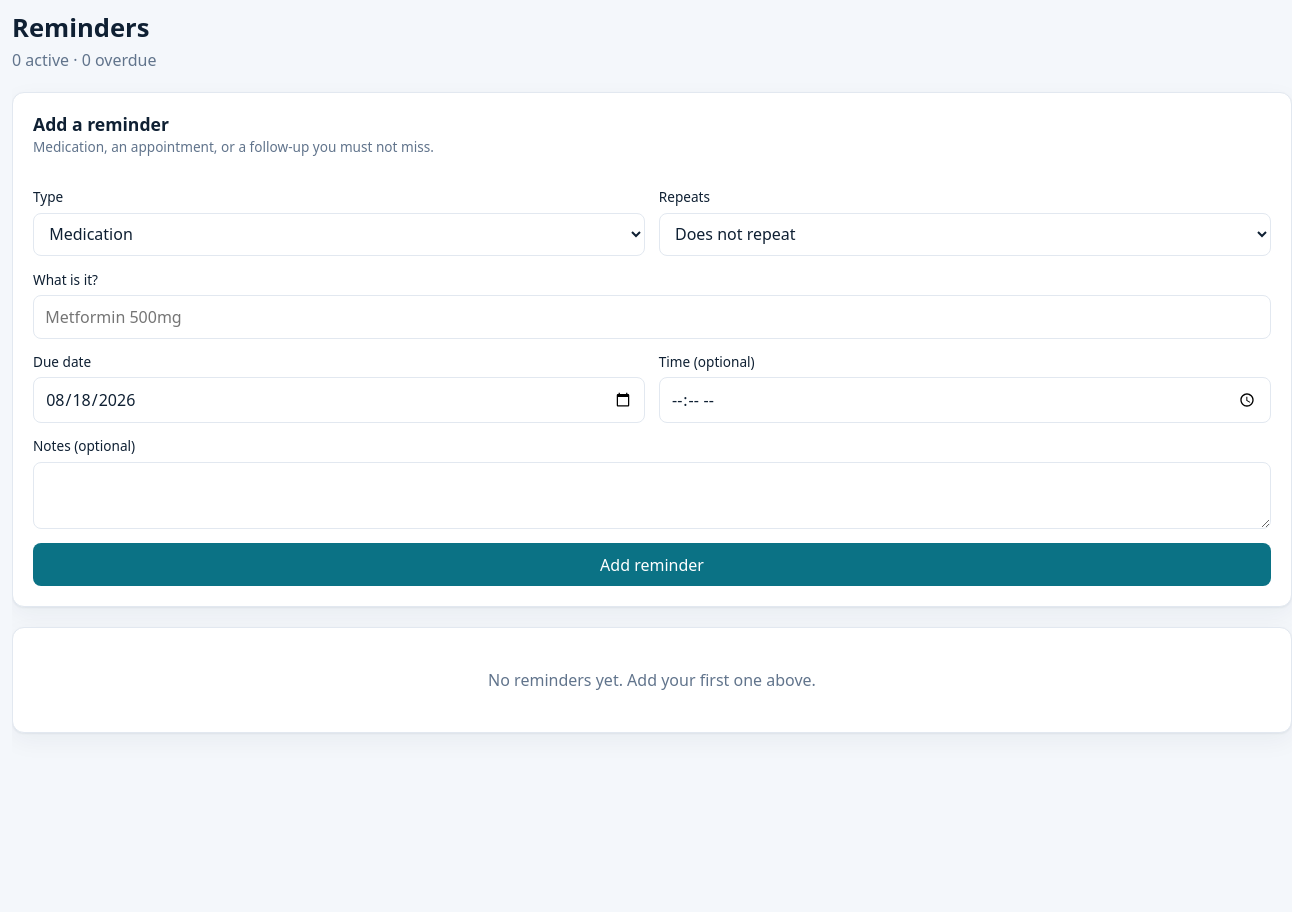
Scenario: RemindersPage › creates a reminder and reloads the board
expect the text "No reminders yet. Add your first one above." is shown: met, box [488, 669, 816, 691]
Type "Vitamin D sachet" into the field labelled "What is it?" at point(652, 317), box [33, 295, 1271, 338]
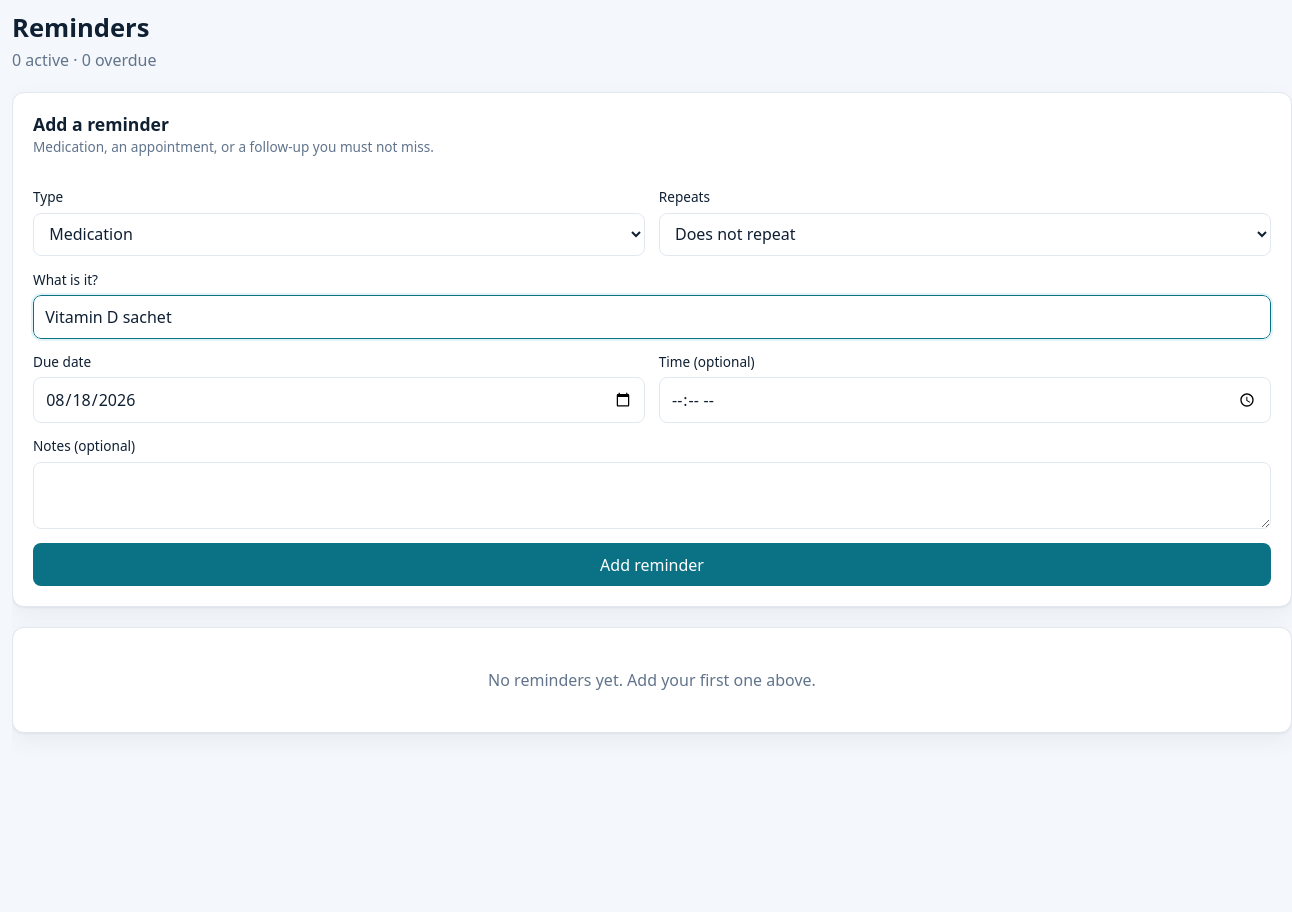
Click the button "Add reminder" at point(652, 565), box [33, 543, 1271, 586]
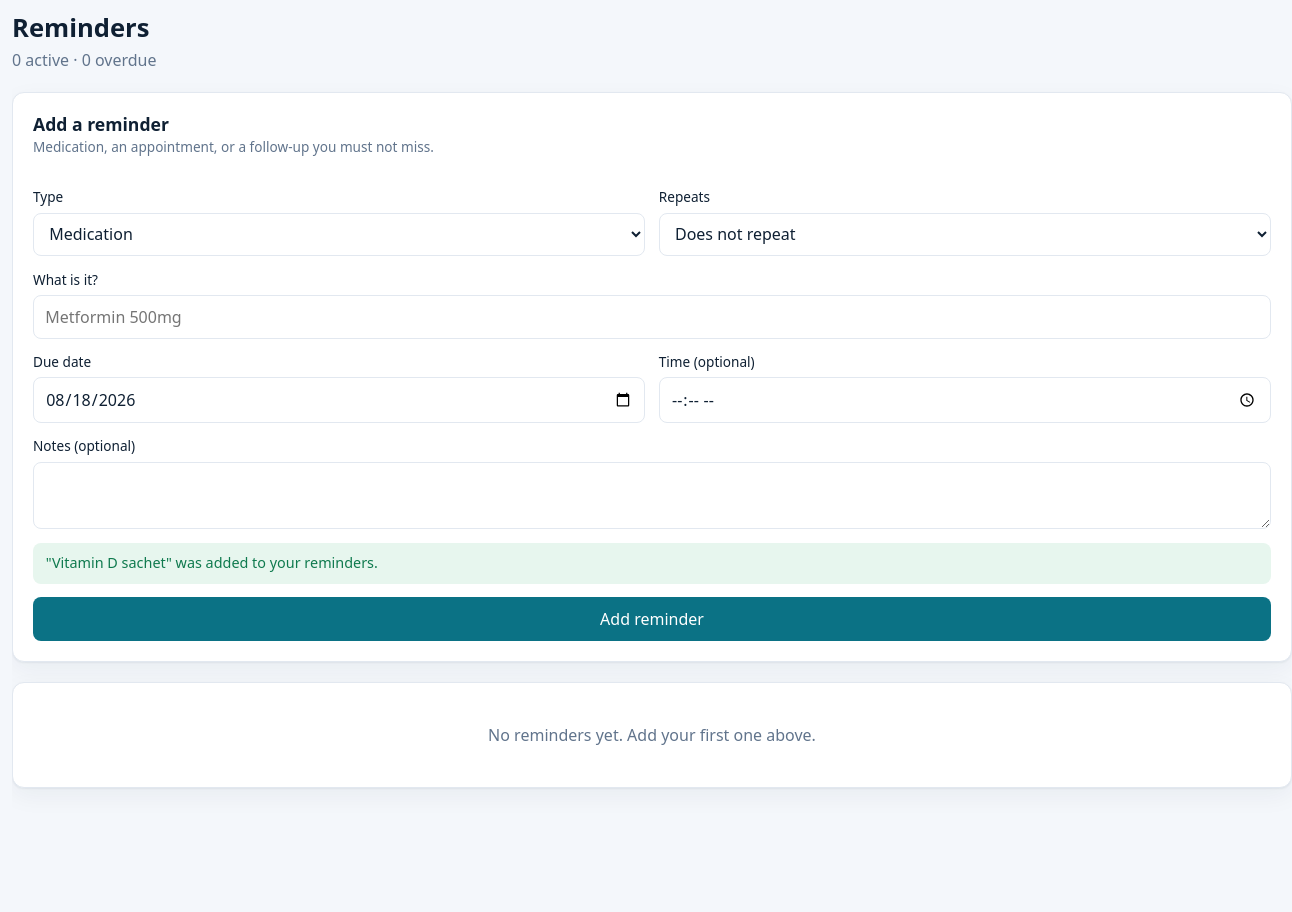
expect the message shows "was added to your reminders": met, box [46, 553, 378, 572]
